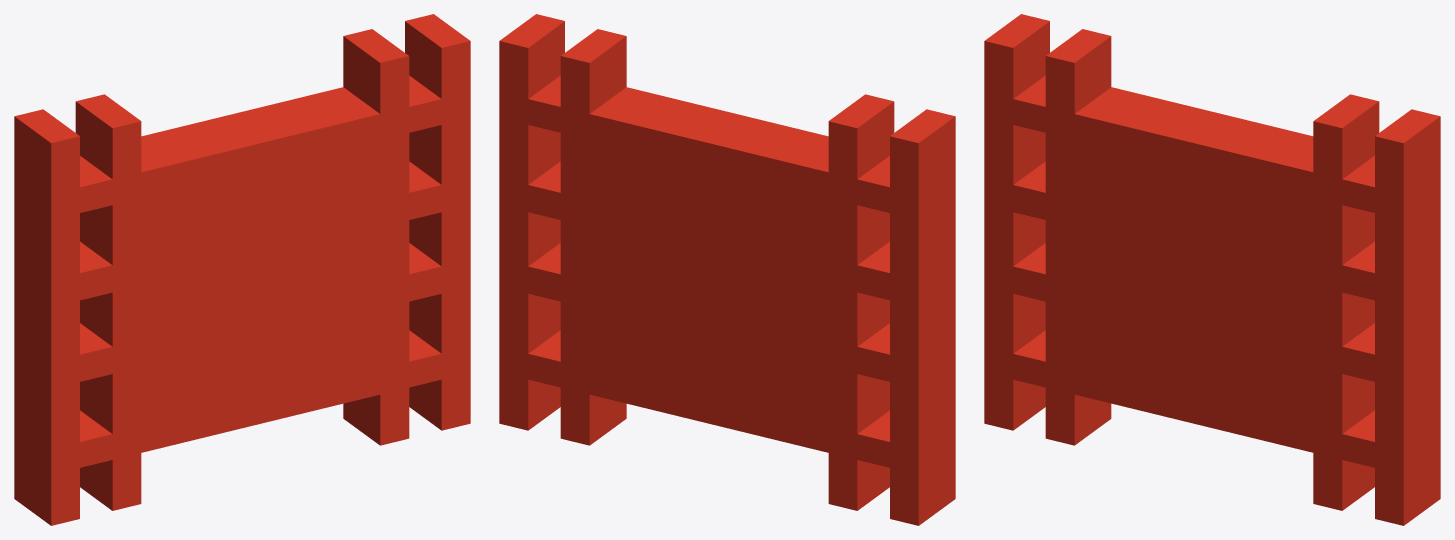
File: Icon_Video_01.fbx
3 views of the same model, side by side, from view 1: azimuth 30°, elevation 25°; view 2: azimuth 150°, elevation 25°; view 3: azimuth 330°, elevation 25° (orthographic).
Parts seen in each view (by area): view 1: Icon_Video_01; view 2: Icon_Video_01; view 3: Icon_Video_01.
Part boxes in pixels (bbox=[...]): Icon_Video_01: bbox=[14, 14, 470, 525]; Icon_Video_01: bbox=[499, 14, 955, 525]; Icon_Video_01: bbox=[984, 14, 1440, 525].
Size of the model in its own units: 79.27 by 69.13 by 12.06.
